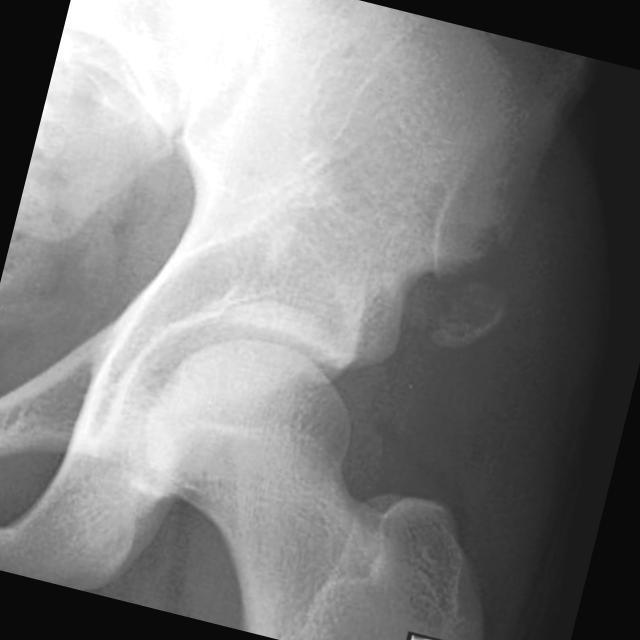Avlusion Fracture: (417, 284, 509, 364)
